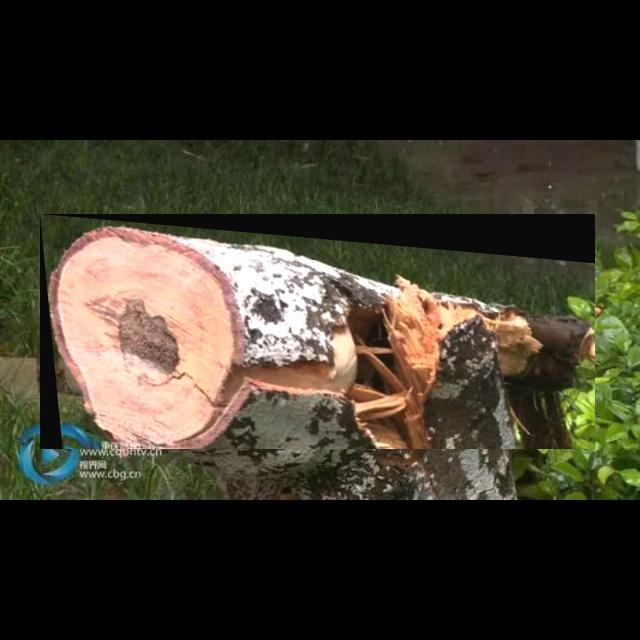fallen_tree: (40, 214, 596, 450)
